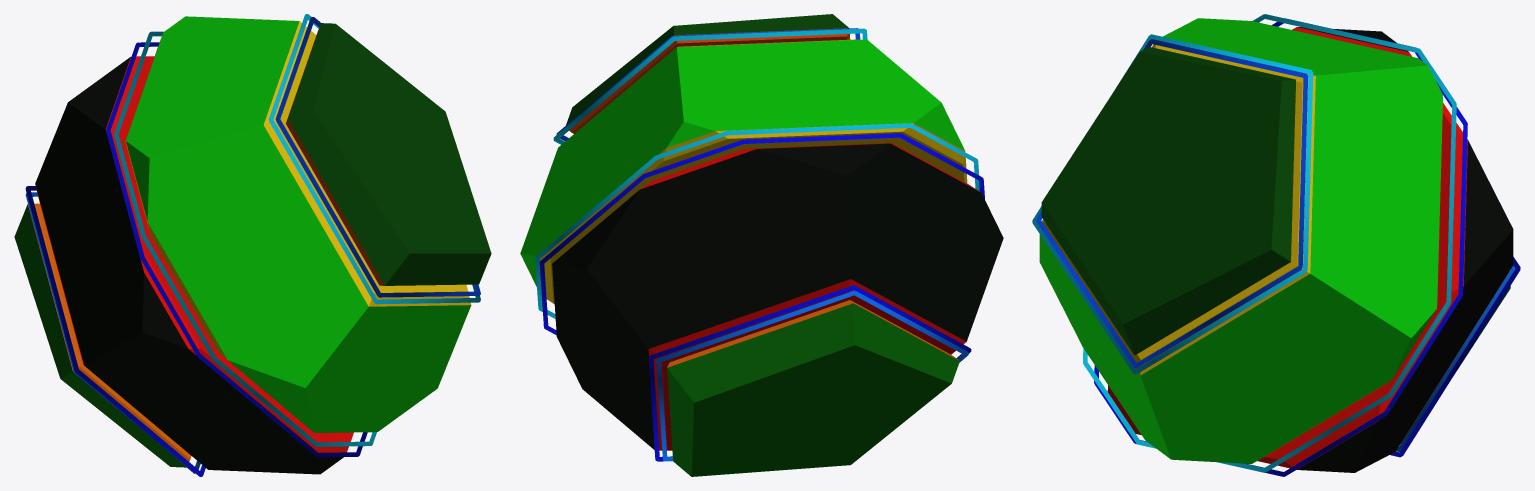
Rendered from FX_Mesh_Dodecahedron_A.fbx.
The picture shows the model from 3 angles, left to right: view 1: azimuth 30°, elevation 25°; view 2: azimuth 150°, elevation 25°; view 3: azimuth 270°, elevation 25°; orthographic projection. The views are drawn at different scales.
Parts seen in each view (by area): view 1: Dodecahedron_A; view 2: Dodecahedron_A; view 3: Dodecahedron_A.
Boxes of the visible parts, x1=… form: Dodecahedron_A: x1=14, y1=14, x2=491, y2=476; Dodecahedron_A: x1=520, y1=14, x2=1003, y2=476; Dodecahedron_A: x1=1032, y1=14, x2=1520, y2=476.
Size of the model in its own units: 1175 by 1176 by 1233.
